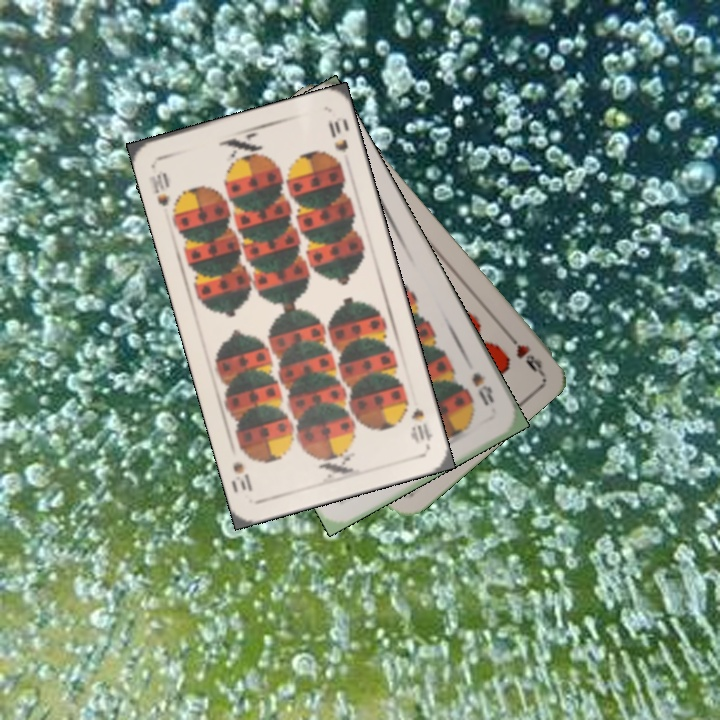H9: (500, 327, 545, 376)
S10: (407, 403, 435, 448), (144, 166, 173, 209)
S8: (467, 368, 497, 409)
